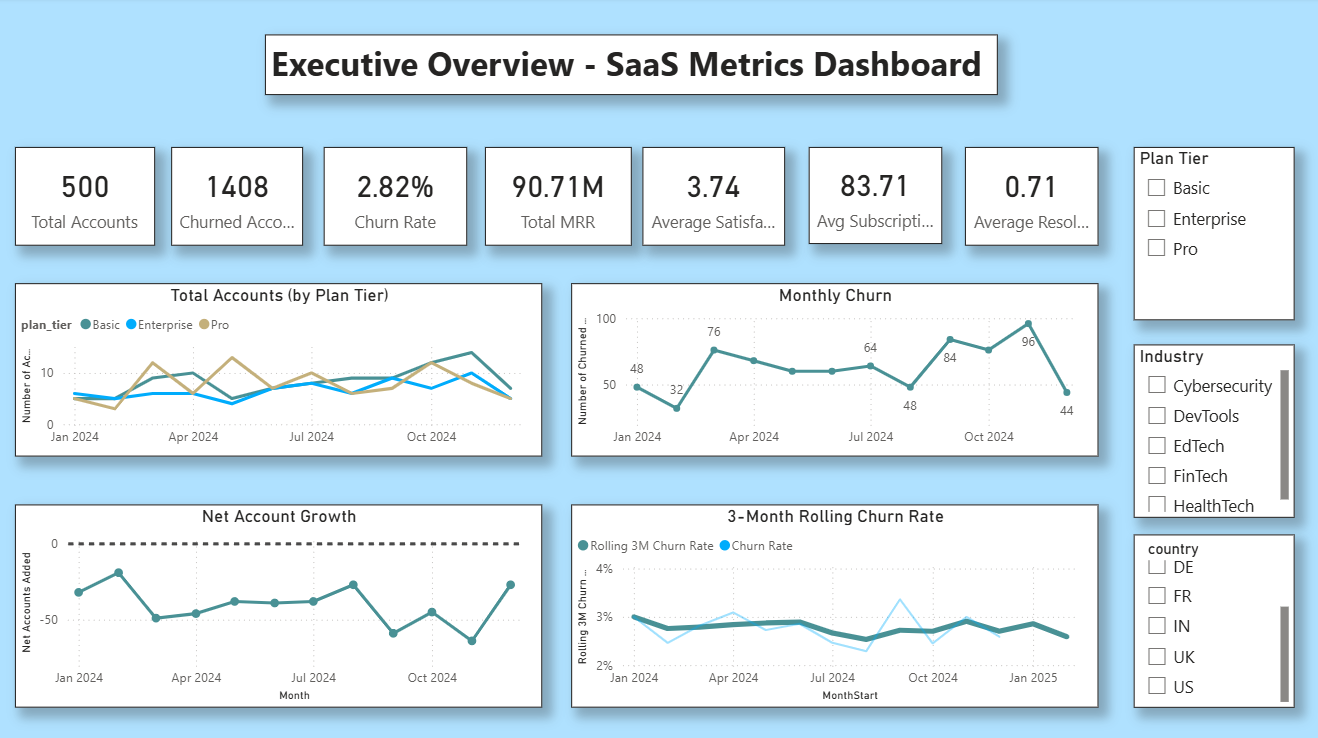

The dashboard page shown, as its layout file describes it:
{"tool":"powerbi","page":{"name":"Page 1","canvas":[1280,720],"ordinal":0},"visuals":[{"type":"lineChart","title":"Total Accounts (by Plan Tier)","fields":{"Y":["clean accounts.Total Accounts"],"Category":["MonthTable_Summary.MonthStart.Variation.Date Hierarchy.Year","MonthTable_Summary.MonthStart.Variation.Date Hierarchy.Quarter","MonthTable_Summary.MonthStart.Variation.Date Hierarchy.Month","MonthTable_Summary.MonthStart.Variation.Date Hierarchy.Day"],"Series":["clean fact_accounts.plan_tier"]},"box":[19.3,218.4,529.6,218.4],"z":0},{"type":"clusteredColumnChart","title":"Monthly Churn","fields":{"Category":["MonthTable_Summary.MonthStart"],"Y":["clean accounts.Monthly Churn"],"Series":["clean accounts.plan_tier"]},"box":[556.2,218.4,542.9,218.4],"z":1000},{"type":"lineChart","title":"Net Account Growth","fields":{"Y":["clean accounts.Net Growth"],"Category":["MonthTable_Summary.MonthStart"]},"box":[19.3,454.8,529.6,231.6],"z":2000},{"type":"lineChart","title":"3-Month Rolling Churn Rate","fields":{"Y":["clean accounts.Rolling 3M Churn Rate","clean accounts.Churn Rate"],"Category":["MonthTable_Summary.MonthStart"]},"box":[556.2,454.8,542.9,231.6],"z":3000},{"type":"card","title":"Total Active Accounts","fields":{"Values":["clean accounts.Total Accounts"]},"box":[19.3,108.6,150.8,95.3],"z":4000},{"type":"card","title":"Churned Accounts (Month)","fields":{"Values":["clean accounts.Churned Accounts"]},"box":[170.1,108.6,147.2,95.3],"z":5000},{"type":"card","title":"Churn Rate","fields":{"Values":["clean accounts.Churn Rate"]},"box":[317.3,108.6,155.6,95.3],"z":6000},{"type":"card","fields":{"Values":["clean fact_accounts.Total MRR"]},"box":[472.9,108.6,152,95.3],"z":7000},{"type":"card","fields":{"Values":["clean fact_support.Avg Satisfaction"]},"box":[624.9,108.6,152,95.3],"z":8000},{"type":"slicer","title":"Plan Tier","fields":{"Values":["clean fact_accounts.plan_tier"]},"box":[1113.5,109.8,138.7,176.1],"z":9000},{"type":"slicer","title":"Industry","fields":{"Values":["clean accounts.industry"]},"box":[1114.8,302.8,138.7,181],"z":10000},{"type":"card","fields":{"Values":["clean fact_accounts.Avg Subscription Days (Churned)"]},"box":[776.9,108.6,159.3,95.3],"z":11000},{"type":"card","fields":{"Values":["clean fact_support.Avg Resolution Days"]},"box":[936.2,108.6,162.9,95.3],"z":12000},{"type":"slicer","title":"Country","fields":{"Values":["clean accounts.country"]},"box":[1114.8,499.5,138.7,187],"z":13000},{"type":"textbox","box":[304,26.5,640.6,59.1],"z":14000}]}

Visuals, with their boxes in screenshot pixels (x1, y1, x2, y2), scaled from the page's 1280x720 canvas onto the 1318x738 screenshot:
"Total Accounts (by Plan Tier)" lineChart: BBox(20, 224, 565, 448)
"Monthly Churn" clusteredColumnChart: BBox(573, 224, 1132, 448)
"Net Account Growth" lineChart: BBox(20, 466, 565, 704)
"3-Month Rolling Churn Rate" lineChart: BBox(573, 466, 1132, 704)
"Total Active Accounts" card: BBox(20, 111, 175, 209)
"Churned Accounts (Month)" card: BBox(175, 111, 327, 209)
"Churn Rate" card: BBox(327, 111, 487, 209)
card - clean fact_accounts.Total MRR: BBox(487, 111, 643, 209)
card - clean fact_support.Avg Satisfaction: BBox(643, 111, 800, 209)
"Plan Tier" slicer: BBox(1147, 113, 1289, 293)
"Industry" slicer: BBox(1148, 310, 1291, 496)
card - clean fact_accounts.Avg Subscription Days (Churned): BBox(800, 111, 964, 209)
card - clean fact_support.Avg Resolution Days: BBox(964, 111, 1132, 209)
"Country" slicer: BBox(1148, 512, 1291, 704)
textbox: BBox(313, 27, 973, 88)
